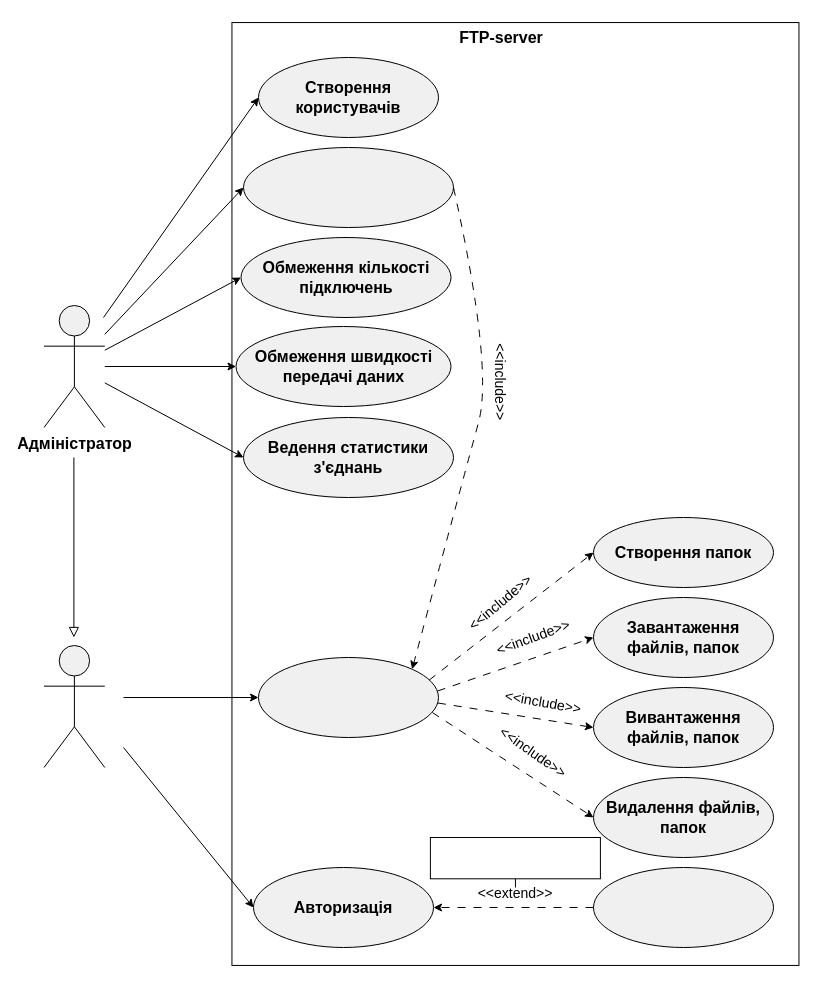
This 817x983 diagram has some shape labels left out. The centre of each missing label's shape, as x and y in pixels:
Доступ до папок: the point at 348,697
Користувач: the point at 74,706
Налаштування прав доступу: the point at 348,187
Помилка авторизації: the point at 683,907
Умова: {невірні облікові дані} Точка розширення: помилка: the point at 514,857
